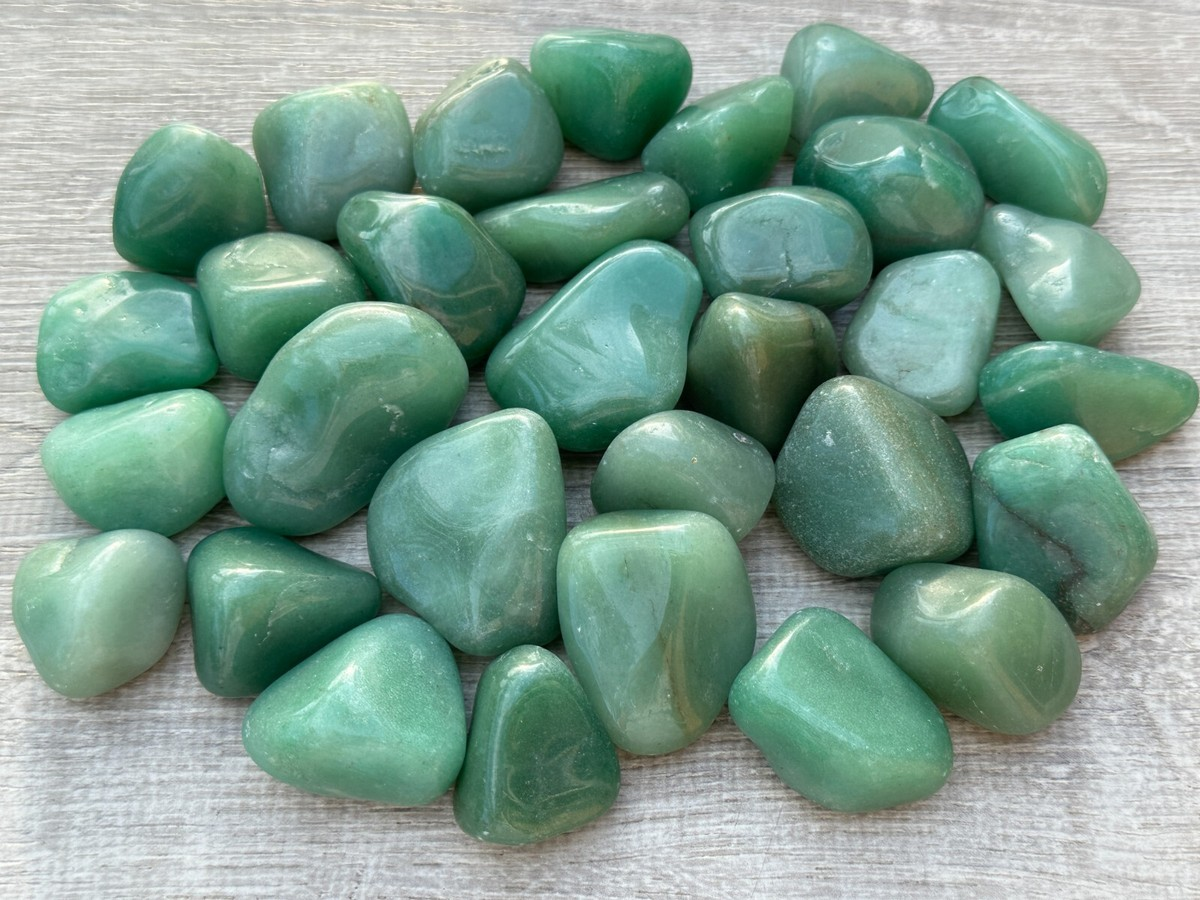Aventurine: (13, 23, 1200, 846)
